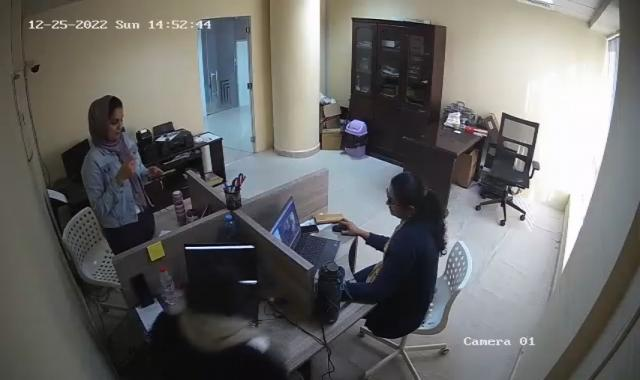no_hairnet: (87, 94, 123, 141)
